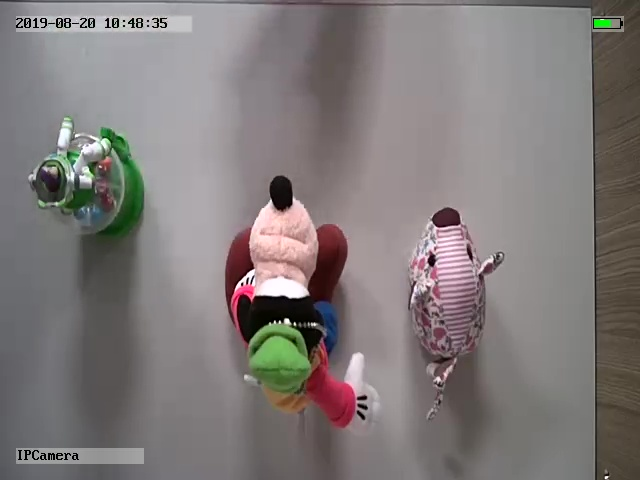buzz: (25, 114, 146, 242)
goofy: (220, 173, 381, 434)
pig: (402, 204, 506, 421)
